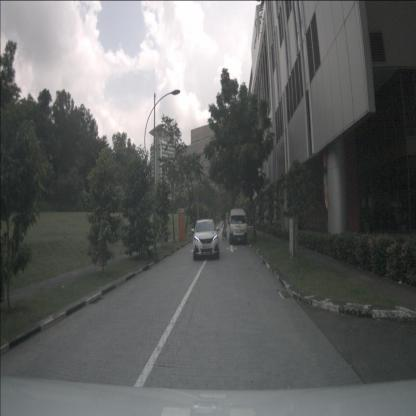vehicle-bicycle: (222, 217, 227, 240)
vehicle-car: (193, 219, 219, 260), (229, 208, 247, 244)
